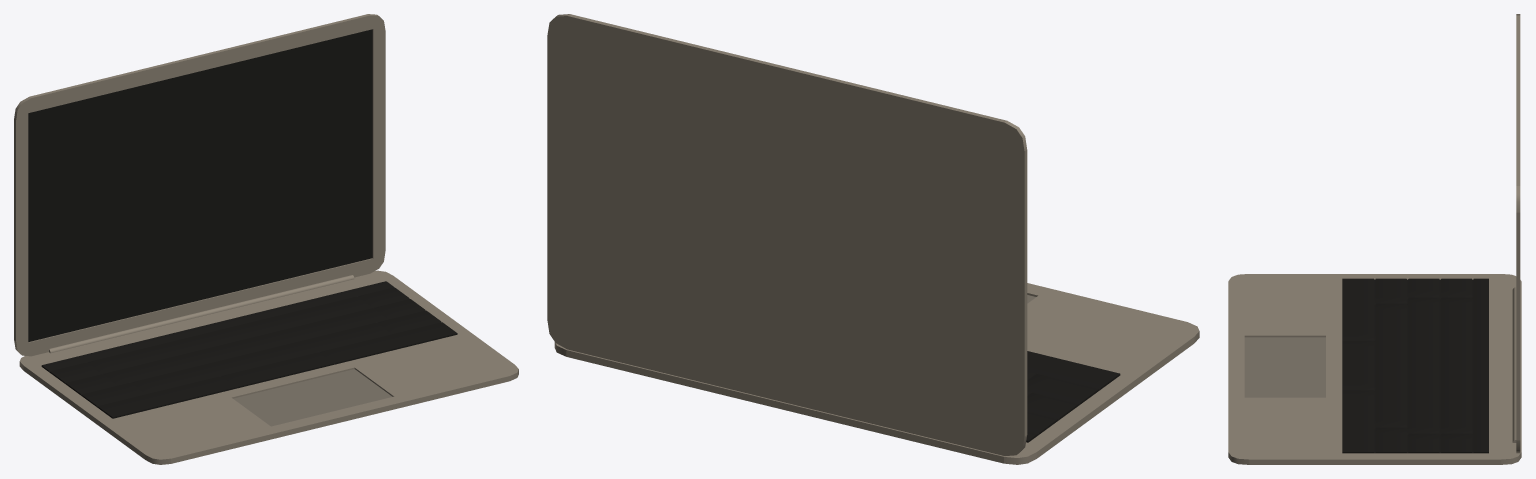
The model's file is Laptop.fbx.
The picture shows the model from 3 angles, left to right: view 1: azimuth 30°, elevation 25°; view 2: azimuth 150°, elevation 25°; view 3: azimuth 270°, elevation 25°; orthographic projection. The views are drawn at different scales.
Parts seen in each view (by area): view 1: LaptopScreen_GEO1; view 2: LaptopScreen_GEO1; view 3: LaptopScreen_GEO1.
Part boxes in pixels (box(x1,y1,x2,y2)): LaptopScreen_GEO1: box(14, 14, 518, 464); LaptopScreen_GEO1: box(547, 14, 1199, 464); LaptopScreen_GEO1: box(1228, 14, 1521, 464).
Size of the model in its own units: 21.92 by 14.94 by 14.64.
